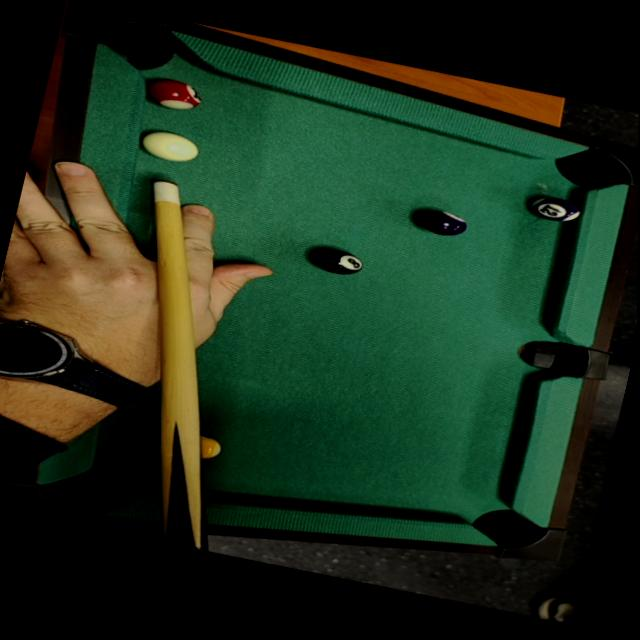cue ball: (129, 123, 201, 169)
other: (136, 70, 206, 118), (520, 187, 585, 230), (301, 241, 367, 282), (407, 203, 470, 243), (188, 432, 225, 464)
